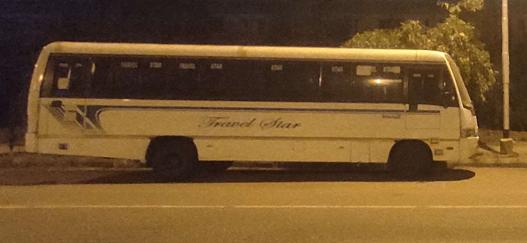Bus: (24, 45, 479, 177)
